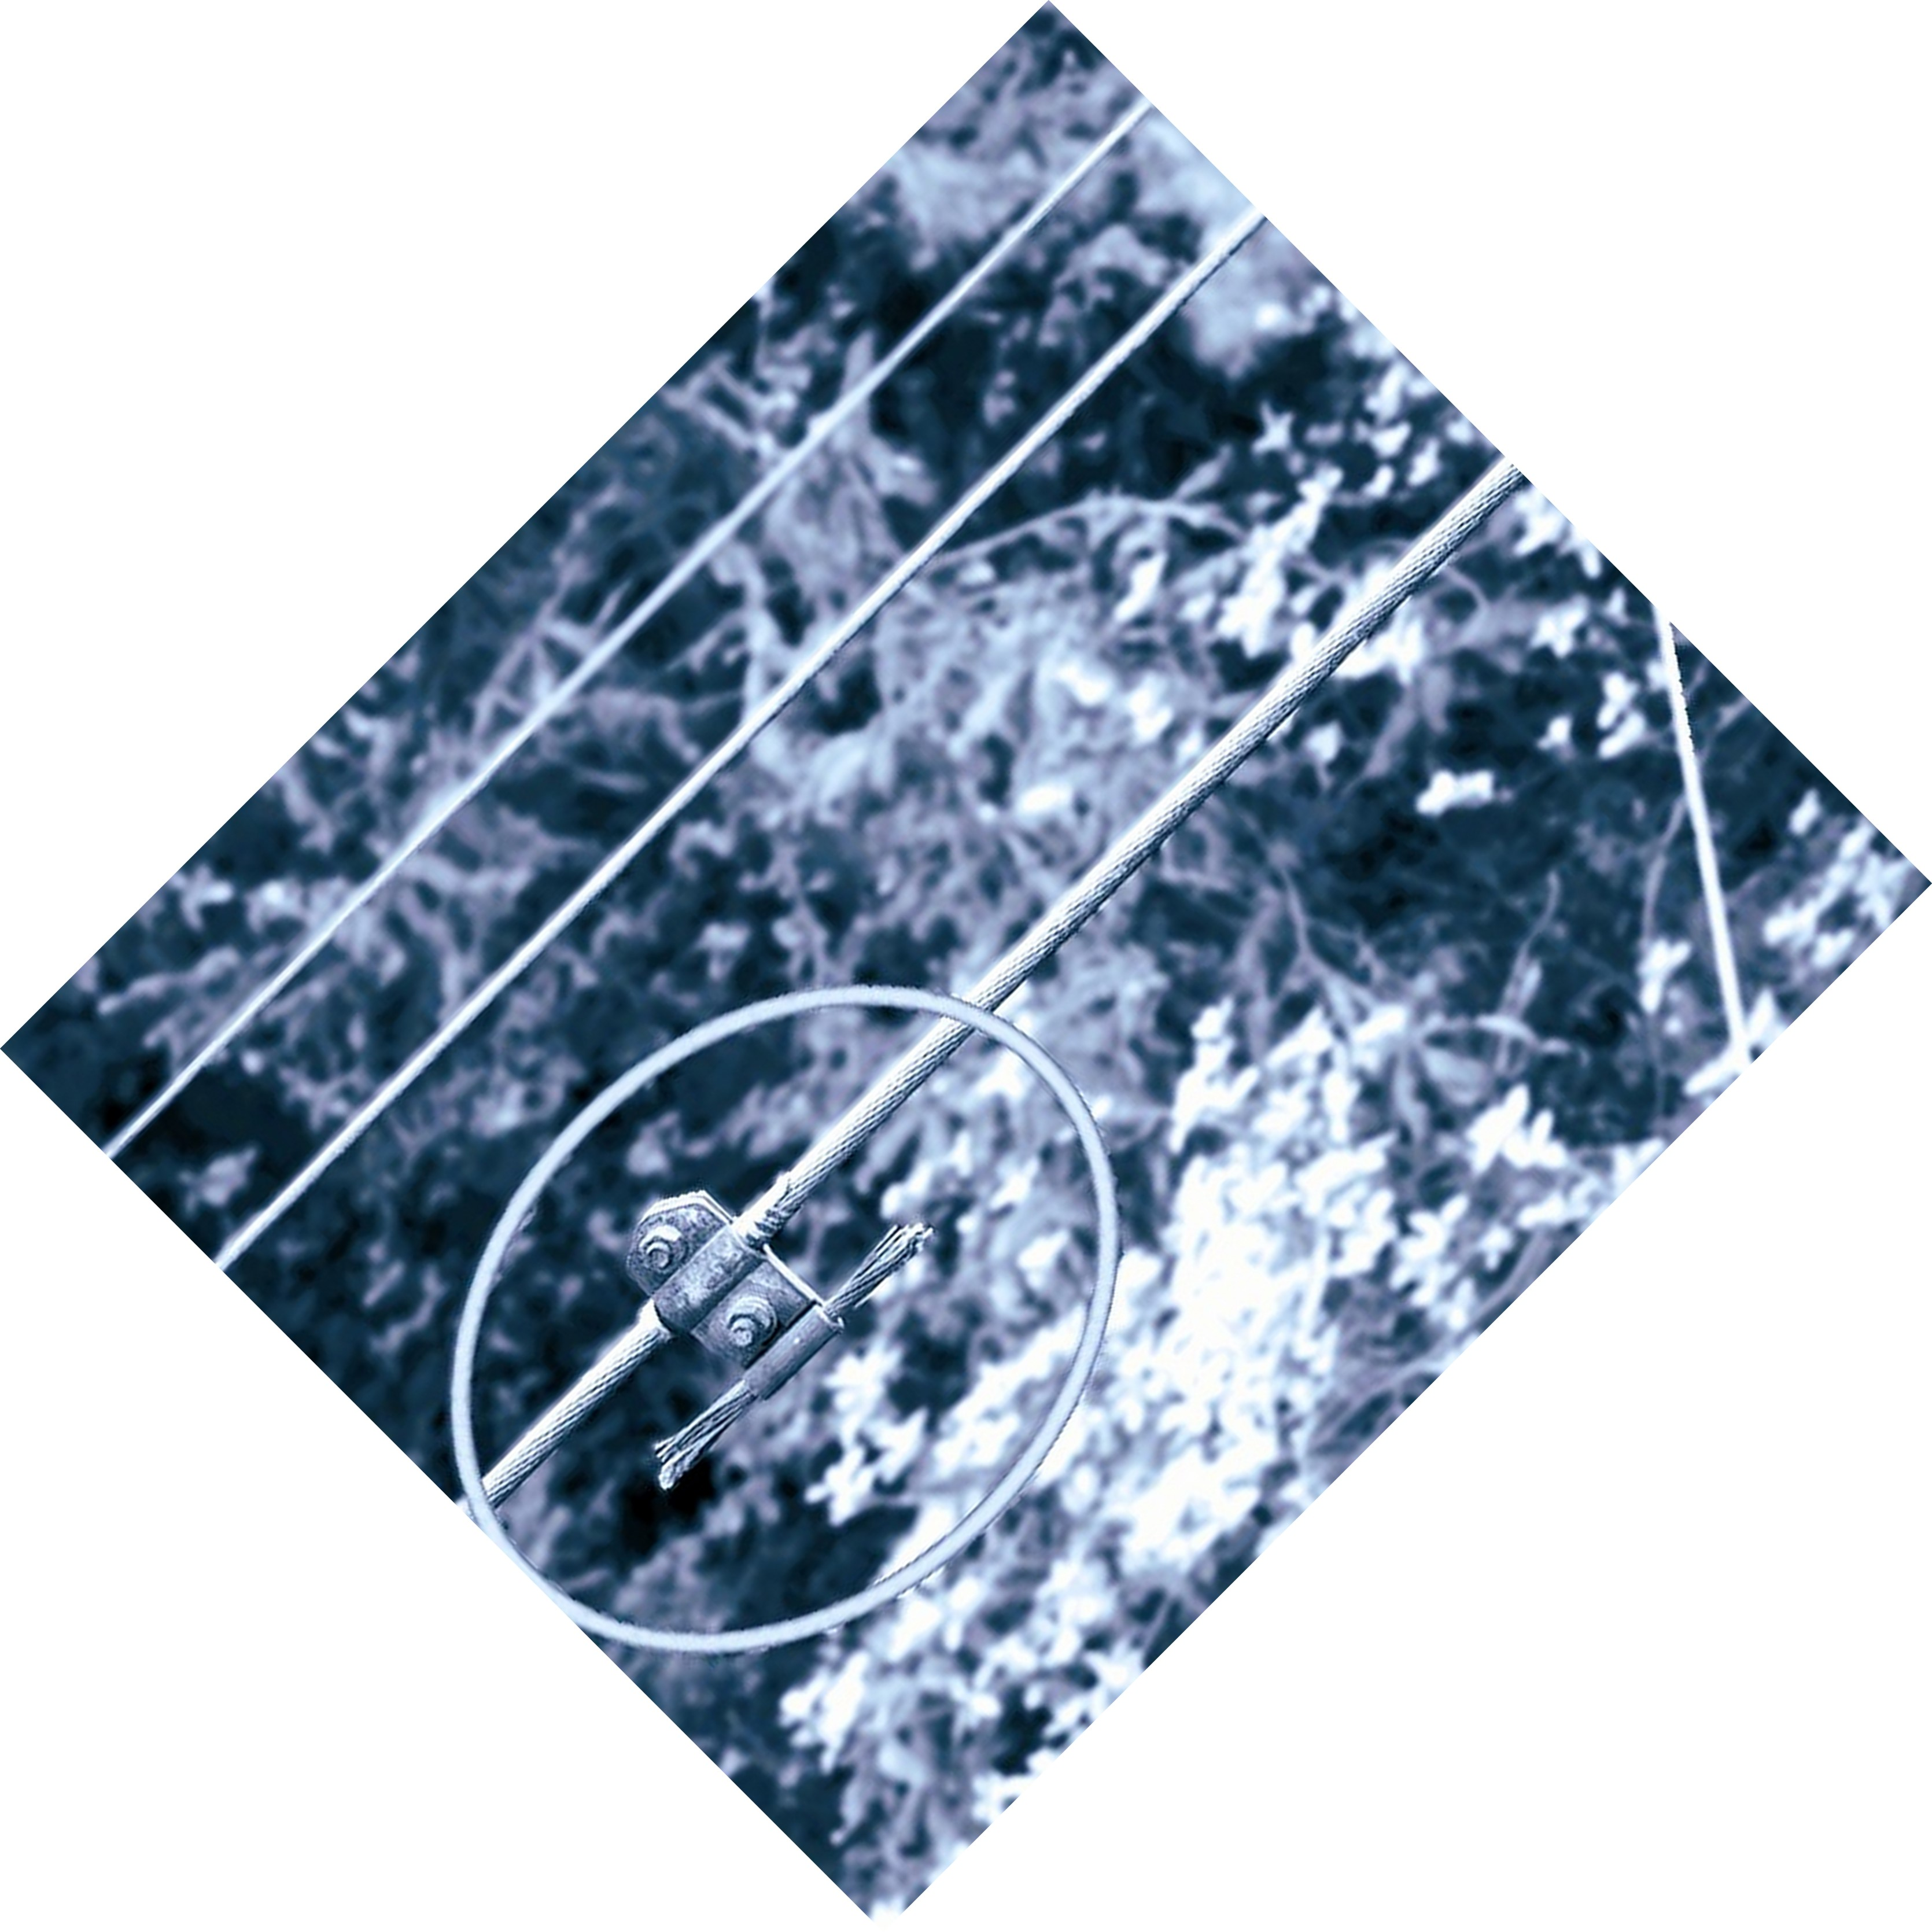Damage of shockproof hammer: (584, 1146, 966, 1511)
